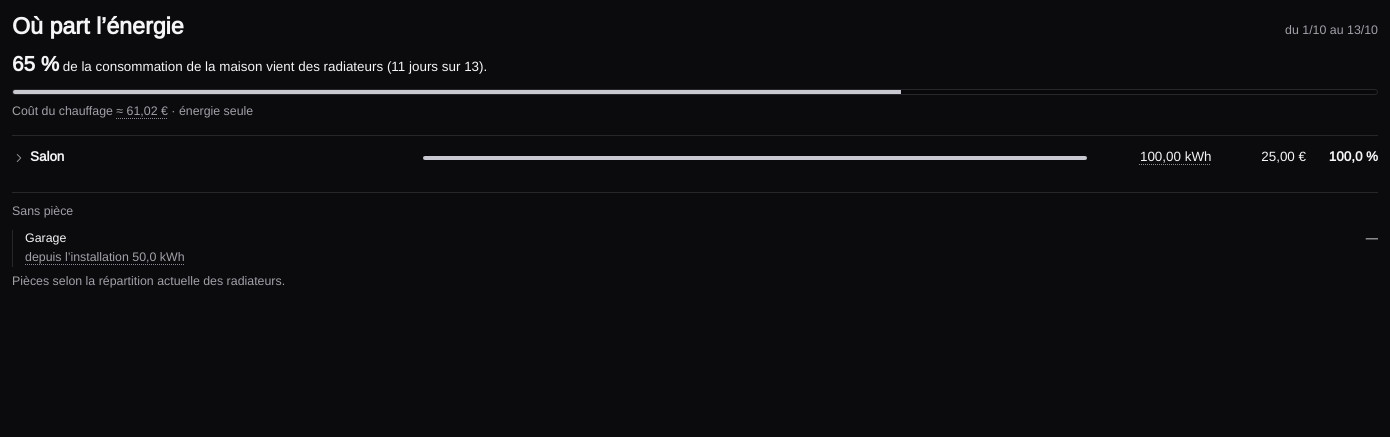
Test: EnergyWhere: the heating share › every house radiator keeps its lifetime counter, also those the period does not count
The image size is (1390, 437).
Click the button with class "name". click: [47, 157]
box: 12,136 -> 411,180
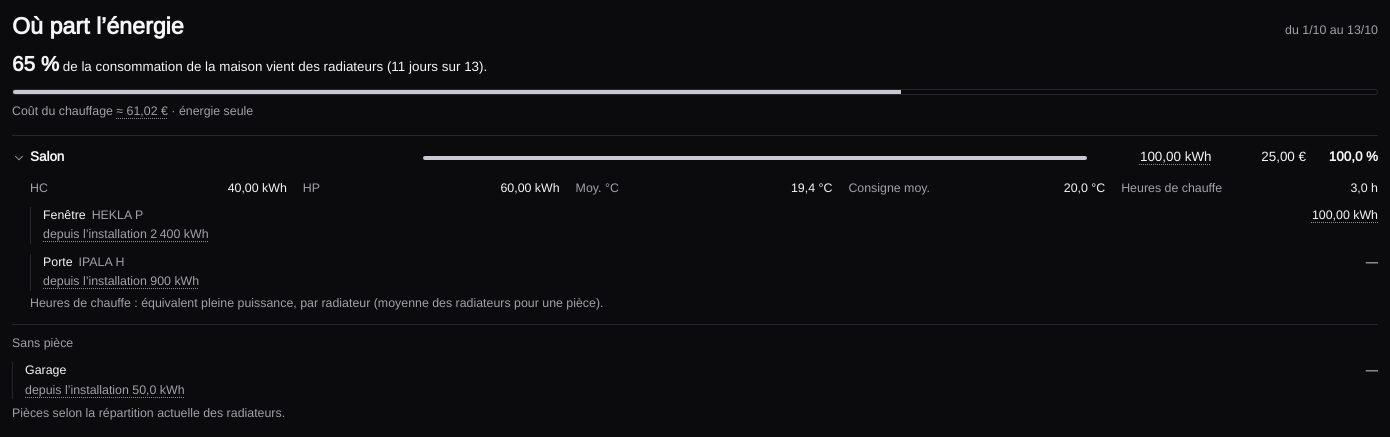
Expected: the element with class "unplaced" shows "Sans pièce", 12,335 -> 73,351
Result: the button "depuis l’installation 900 kWh" is shown at 43,273 -> 199,291
